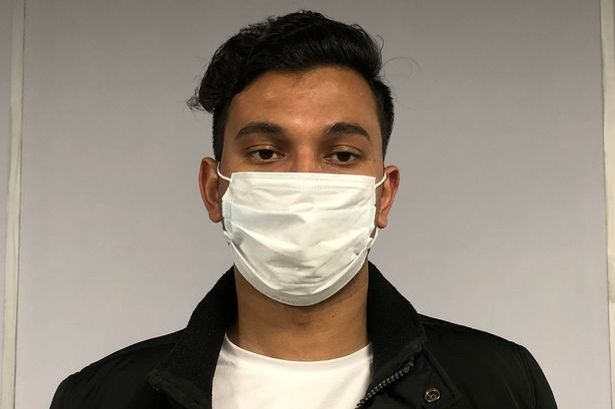surgical: (202, 164, 389, 305)
